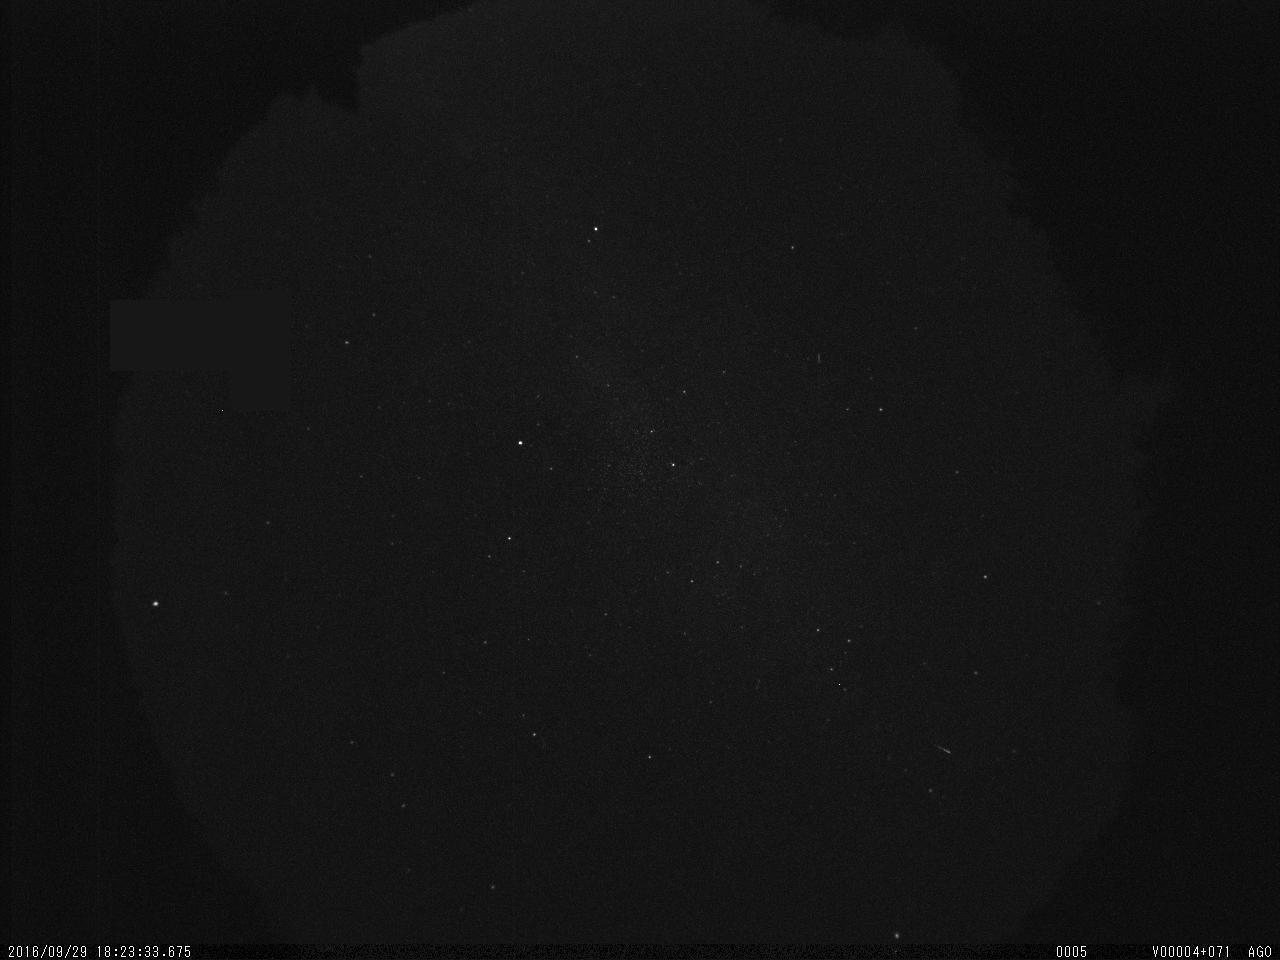Meteor: (931, 739, 956, 759)
